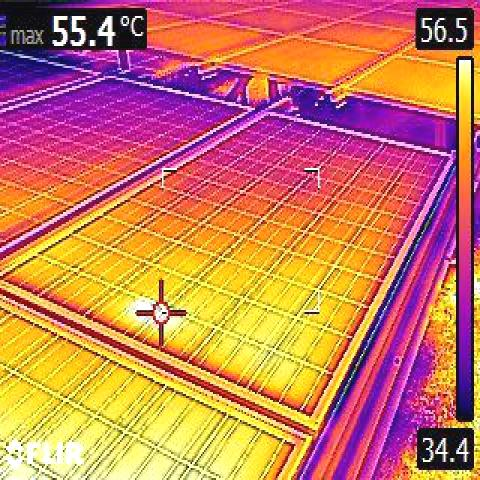fault: (136, 297, 151, 311)
